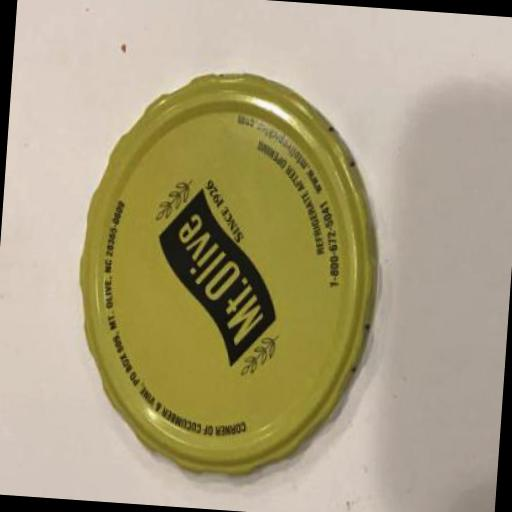metal: (64, 61, 390, 481)
